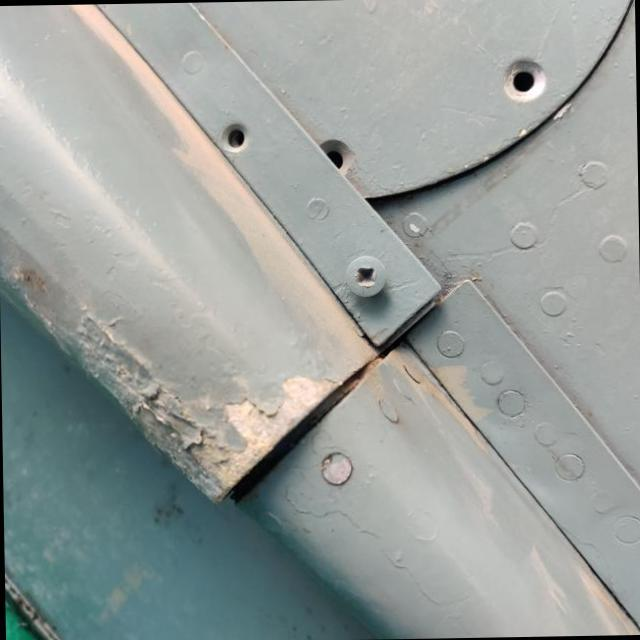Fastener Damage: (293, 117, 371, 199), (488, 45, 562, 117), (201, 108, 264, 170)
